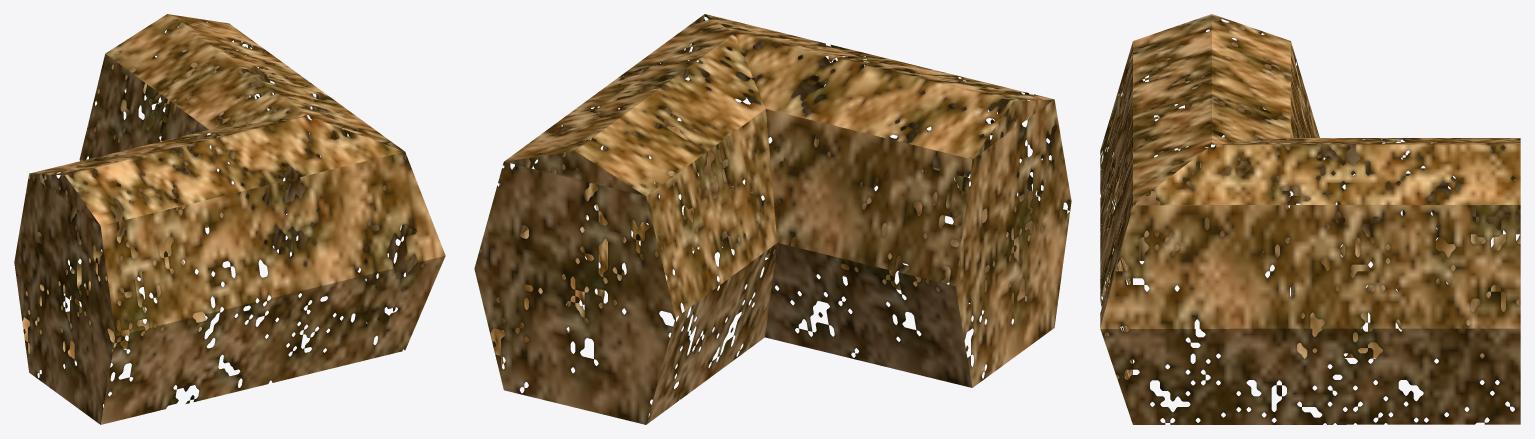
Rendered from bush_square_corner_autumn.fbx.
The picture shows the model from 3 angles, left to right: view 1: azimuth 30°, elevation 25°; view 2: azimuth 150°, elevation 25°; view 3: azimuth 270°, elevation 25°; orthographic projection. The views are drawn at different scales.
Parts seen in each view (by area): view 1: bush_square_corner_autumn; view 2: bush_square_corner_autumn; view 3: bush_square_corner_autumn.
Part boxes in pixels (bbox=[...]): bush_square_corner_autumn: bbox=[14, 14, 445, 424]; bush_square_corner_autumn: bbox=[474, 14, 1071, 424]; bush_square_corner_autumn: bbox=[1100, 14, 1520, 424].
Size of the model in its own units: 136 by 87.65 by 135.
1 material, 1 textured.
